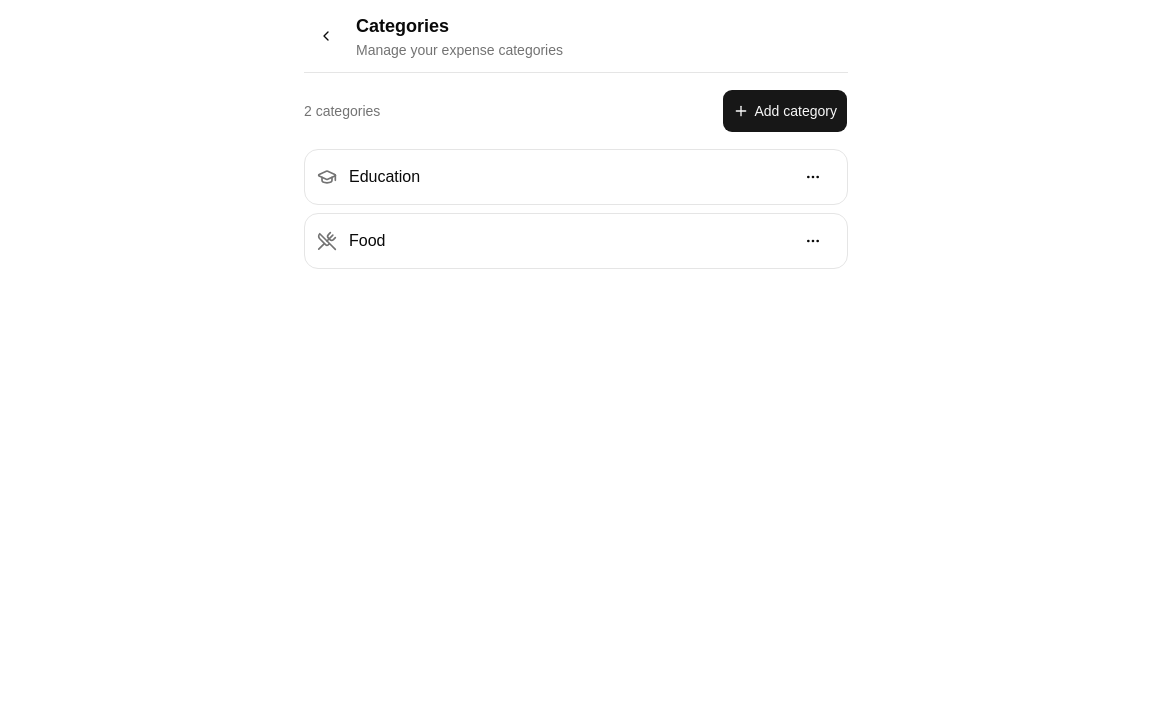
category management › puts a duplicate rename response on the same focused field
The image size is (1152, 720).
Click the button named "Actions for Food" at {"x": 813, "y": 241}, box [791,219,835,263]
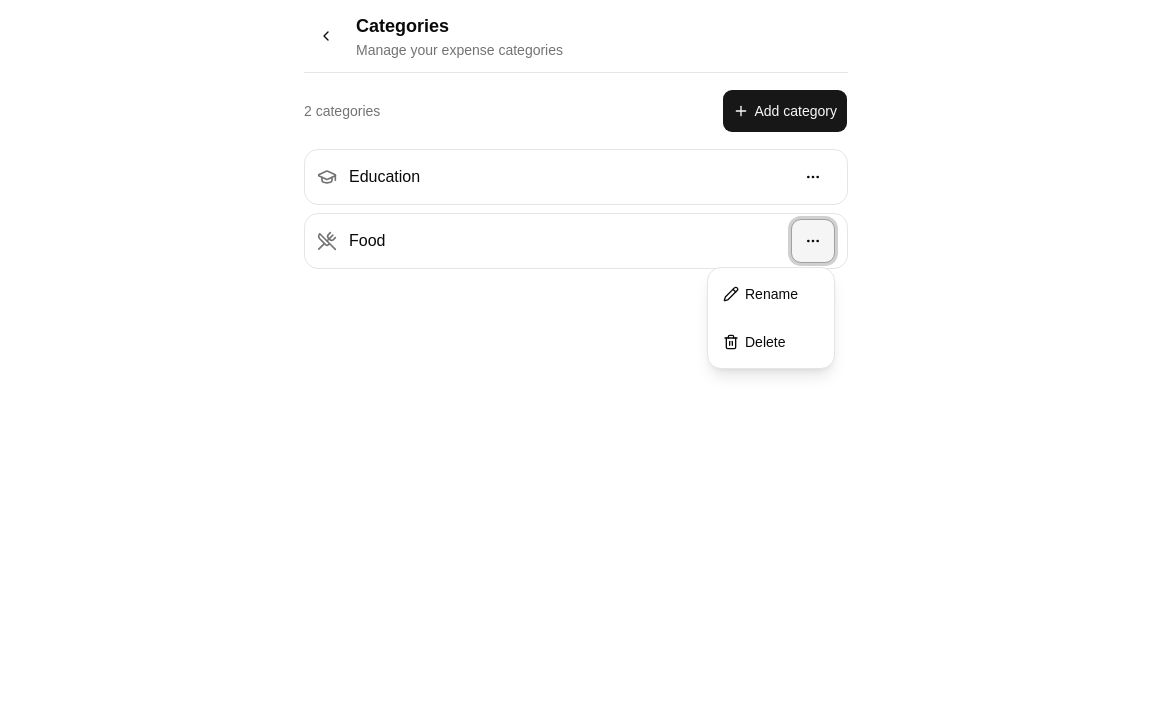
Click the button "Rename" at {"x": 771, "y": 294}, box [712,272,830,316]
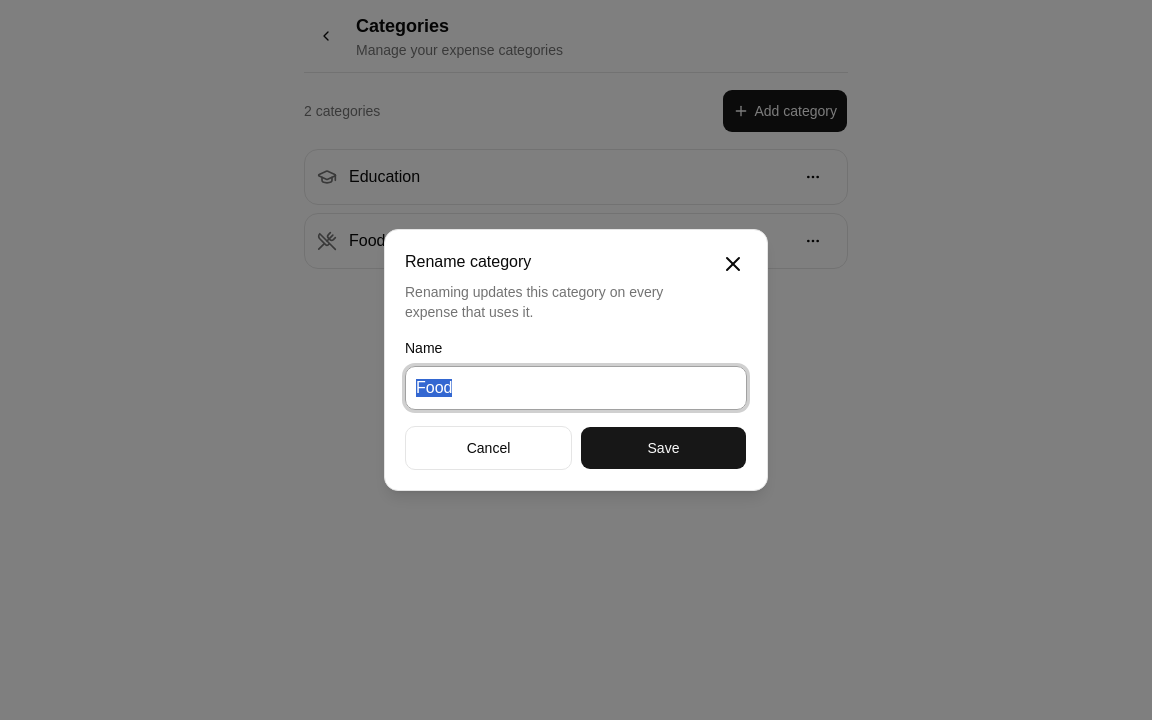
Replace the text in the field named "Category name" with "Meals" at {"x": 576, "y": 388}, box [405,366,747,410]
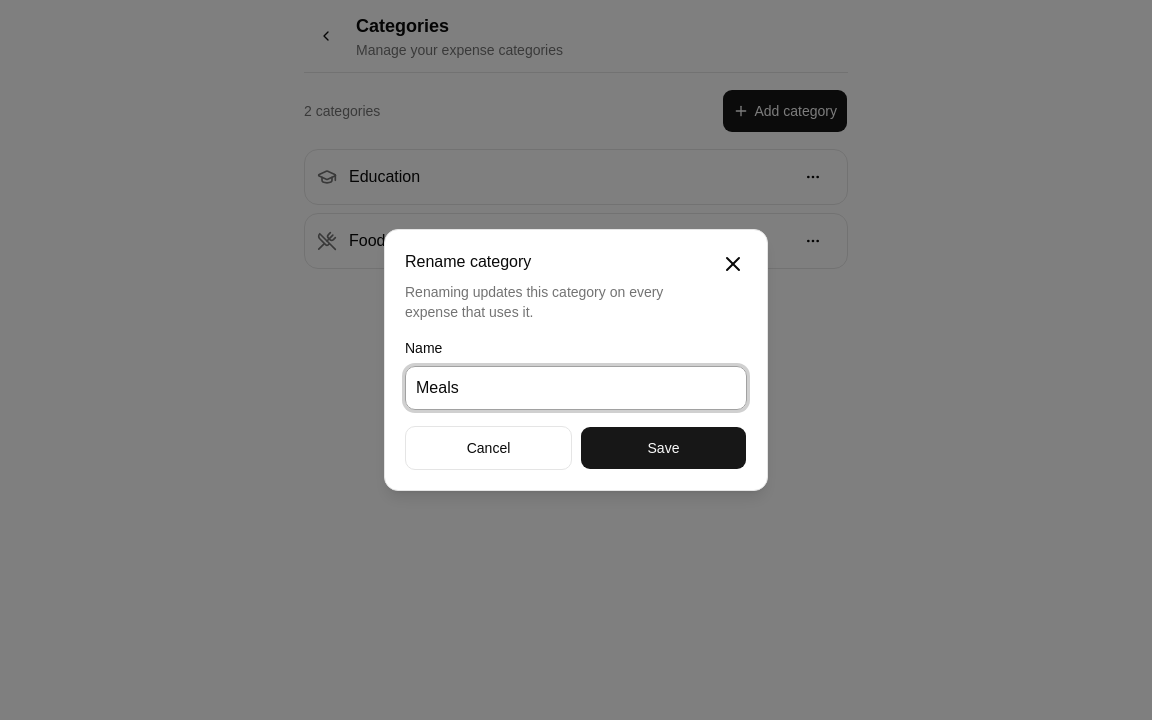
Click the button "Save" at {"x": 664, "y": 448}, box [580,426,747,470]
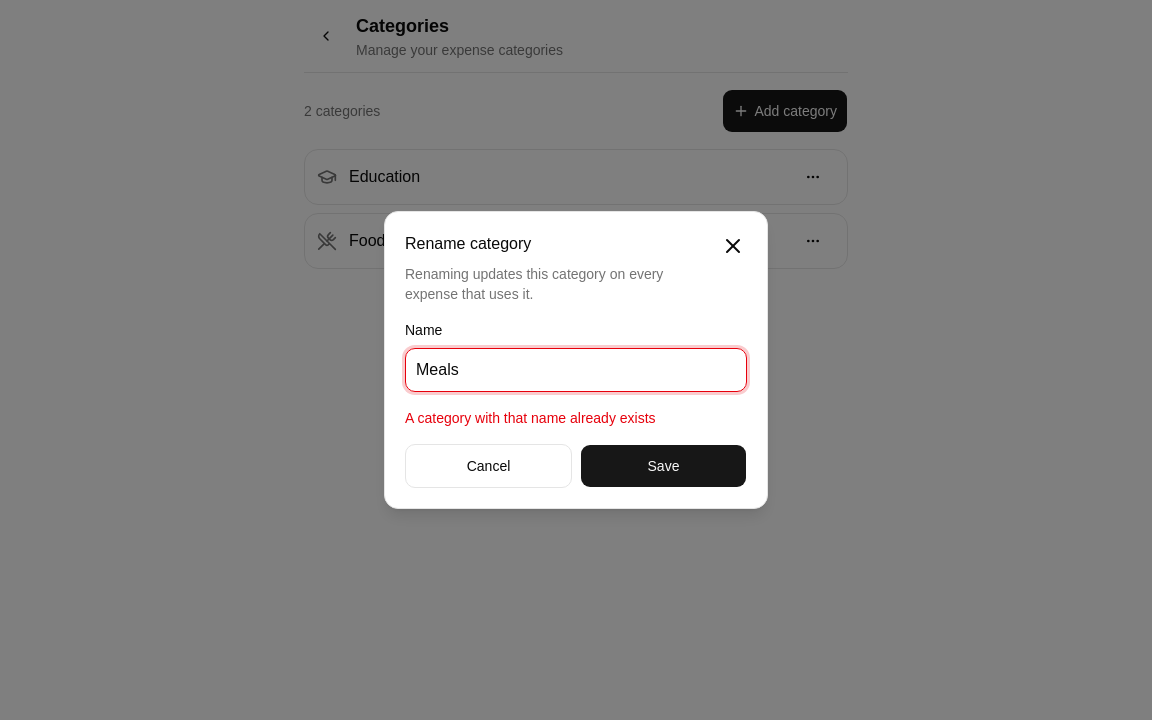
Result: the text "A category with that name already exists" is shown at [405,410,656,426]
